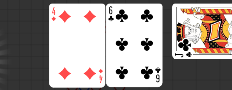4D: (51, 7, 58, 23)
5C: (154, 67, 162, 84)
